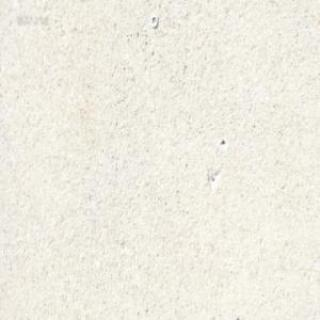Washertrack_idkeyframe: (150, 12, 158, 27)
